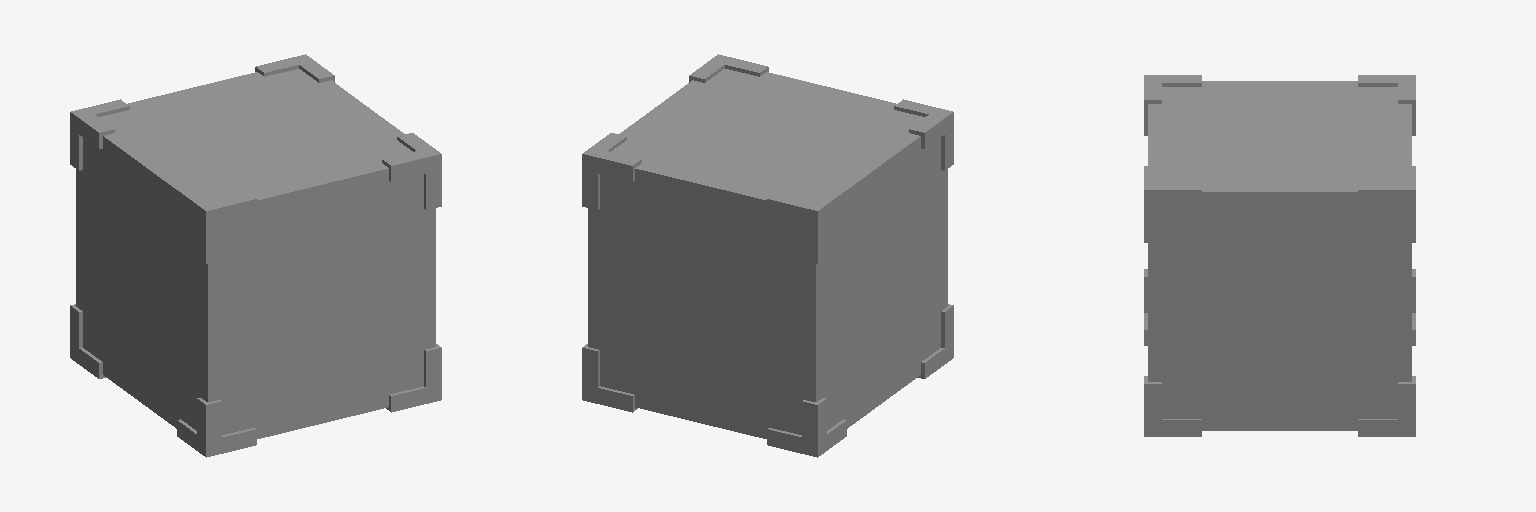
The model's file is obstacle_box_2.obj.
The picture shows the model from 3 angles: view 1: azimuth 30°, elevation 25°; view 2: azimuth 150°, elevation 25°; view 3: azimuth 270°, elevation 25°; orthographic projection.
Size of the model in its own units: 0.0979 by 0.0979 by 0.0979.